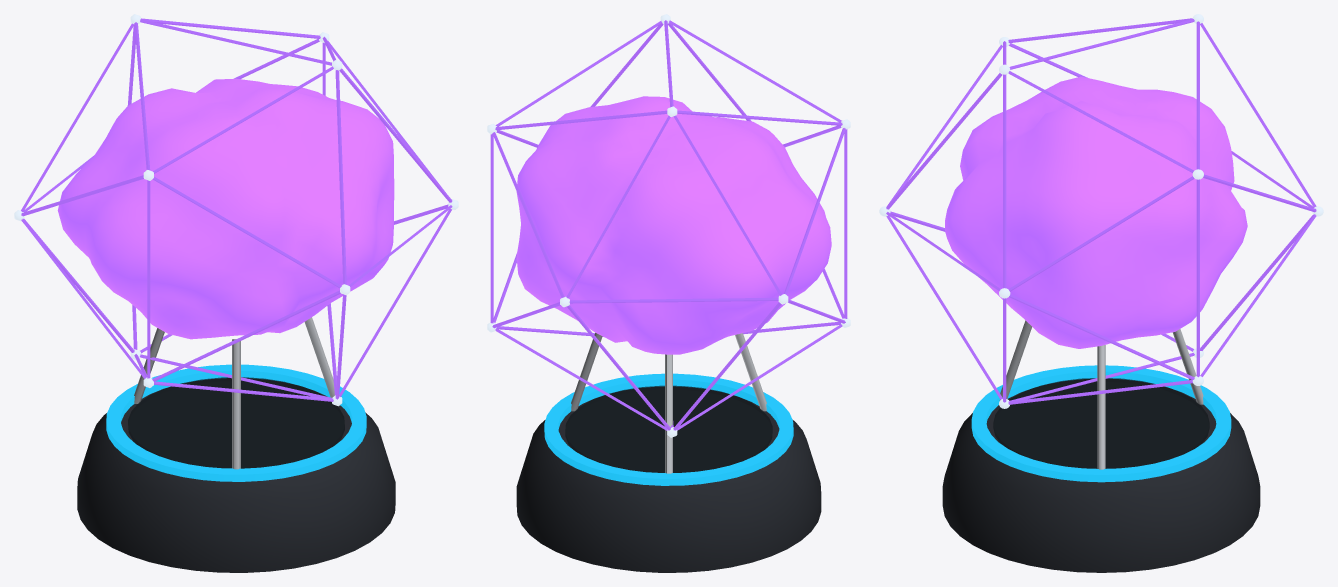
Rendered from ai_mini.glb.
3 views of the same model, side by side, from view 1: azimuth 30°, elevation 25°; view 2: azimuth 150°, elevation 25°; view 3: azimuth 270°, elevation 25° (orthographic). The views are drawn at different scales.
Parts seen in each view (by area): view 1: aiMiniBody; view 2: aiMiniBody; view 3: aiMiniBody.
Boxes of the visible parts, x1,y1,x2,y2 form: aiMiniBody: [14, 14, 458, 572]; aiMiniBody: [487, 14, 850, 572]; aiMiniBody: [879, 14, 1323, 572].
Bounding box in the file's own units: 0.5505 × 0.7132 × 0.616.
